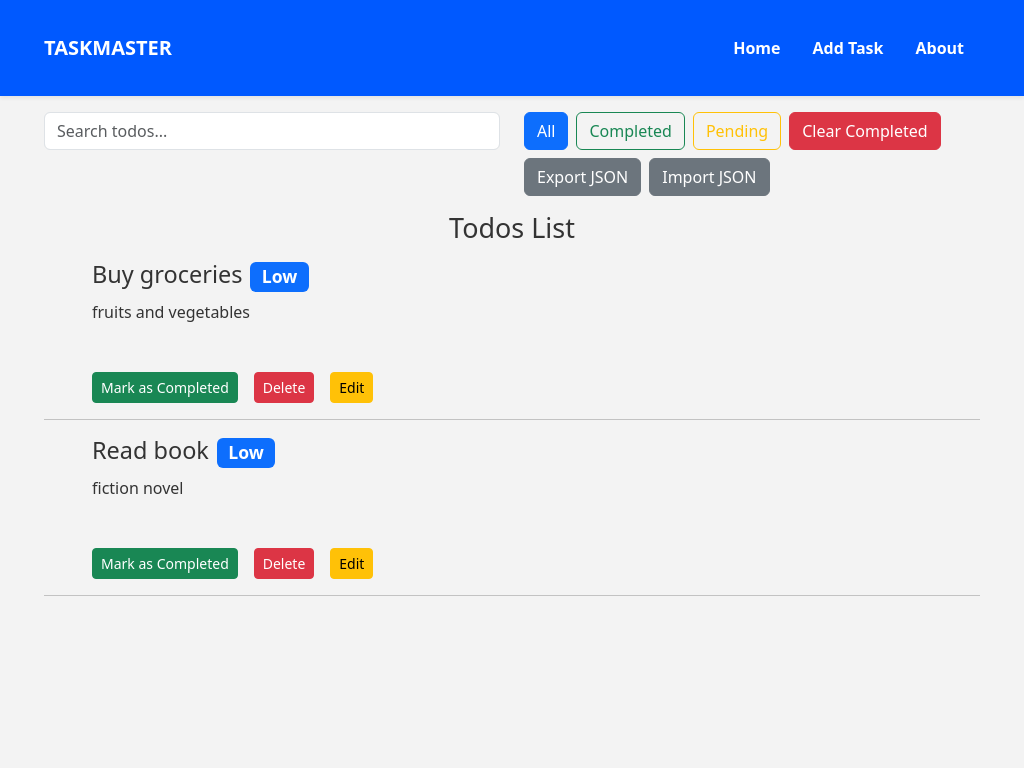
Test case: App – Search › shows all todos when search is cleared
Type "groceries" into the field with placeholder "Search todos..." at (272, 131), box [44,112,500,150]
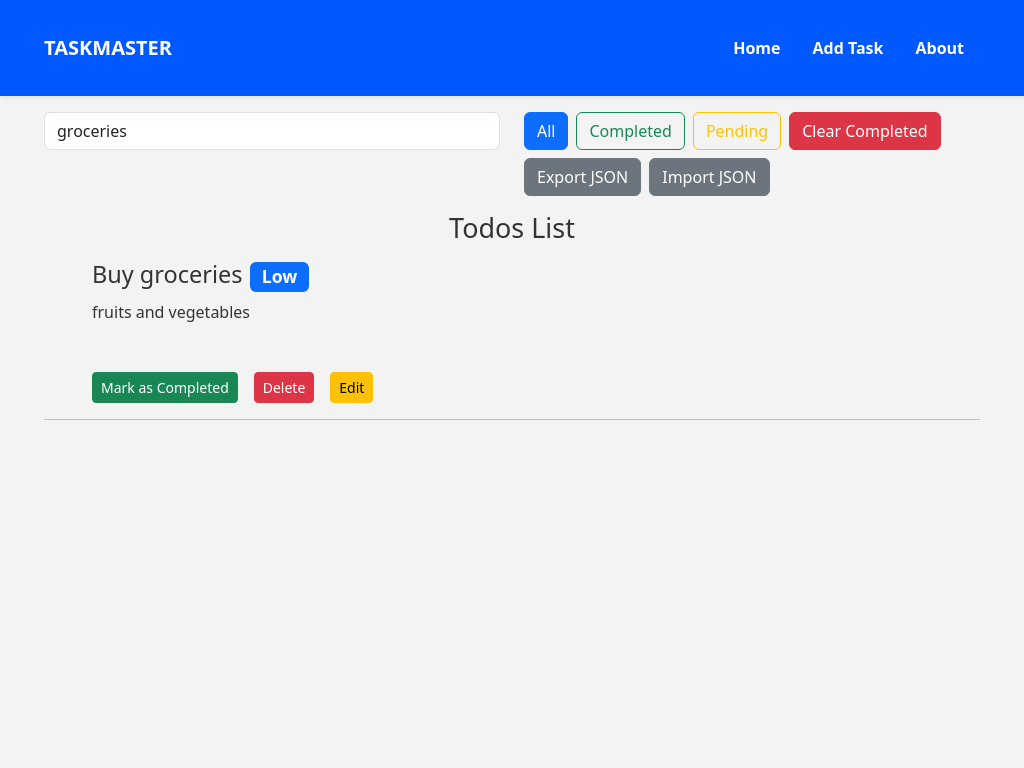
Clear the field with placeholder "Search todos..." at (272, 131), box [44,112,500,150]
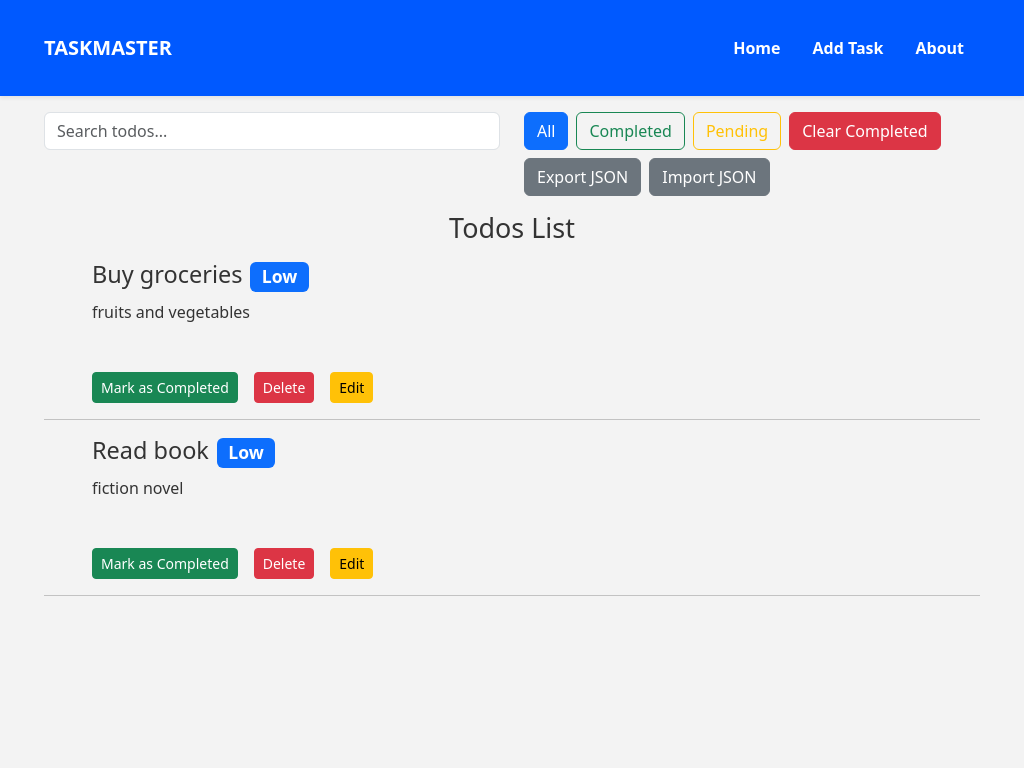
Expected: the heading "Buy groceries Low" is shown, [92,258,309,292]
Expected: the heading "Read book Low" is shown, [92,434,275,468]
